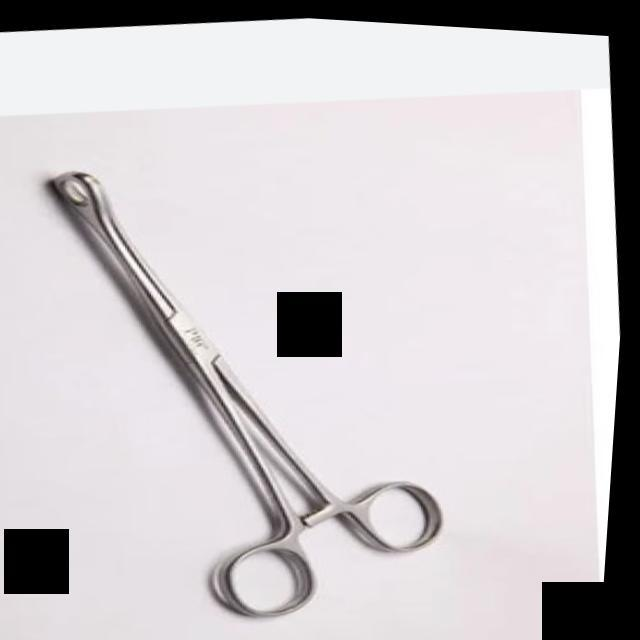Sponge Holding Forceps: (12, 119, 516, 640)
